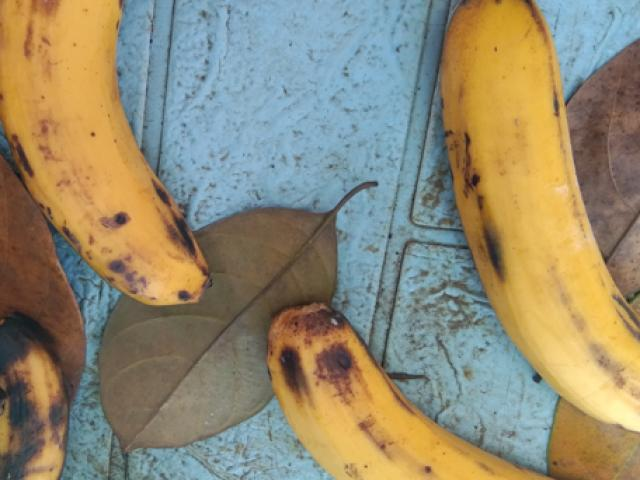overripe: (0, 0, 226, 304), (0, 311, 98, 479)
ripe: (432, 1, 639, 443), (262, 305, 550, 479)
